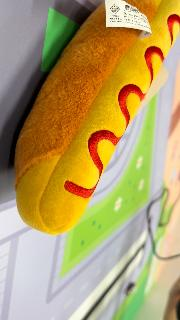hotdog: (13, 1, 179, 237)
